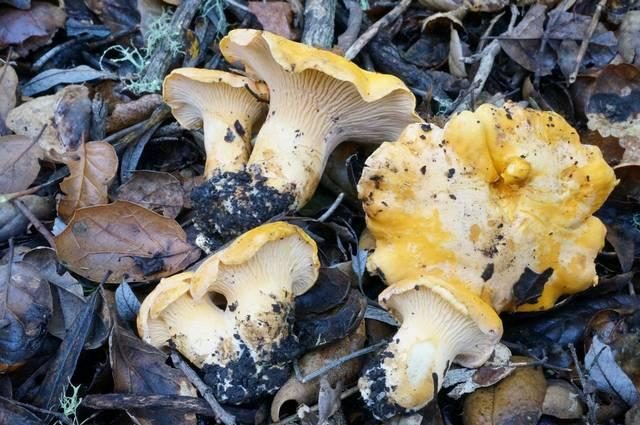Edible Mushroom: (354, 99, 619, 414), (162, 26, 423, 253), (135, 219, 321, 404)
